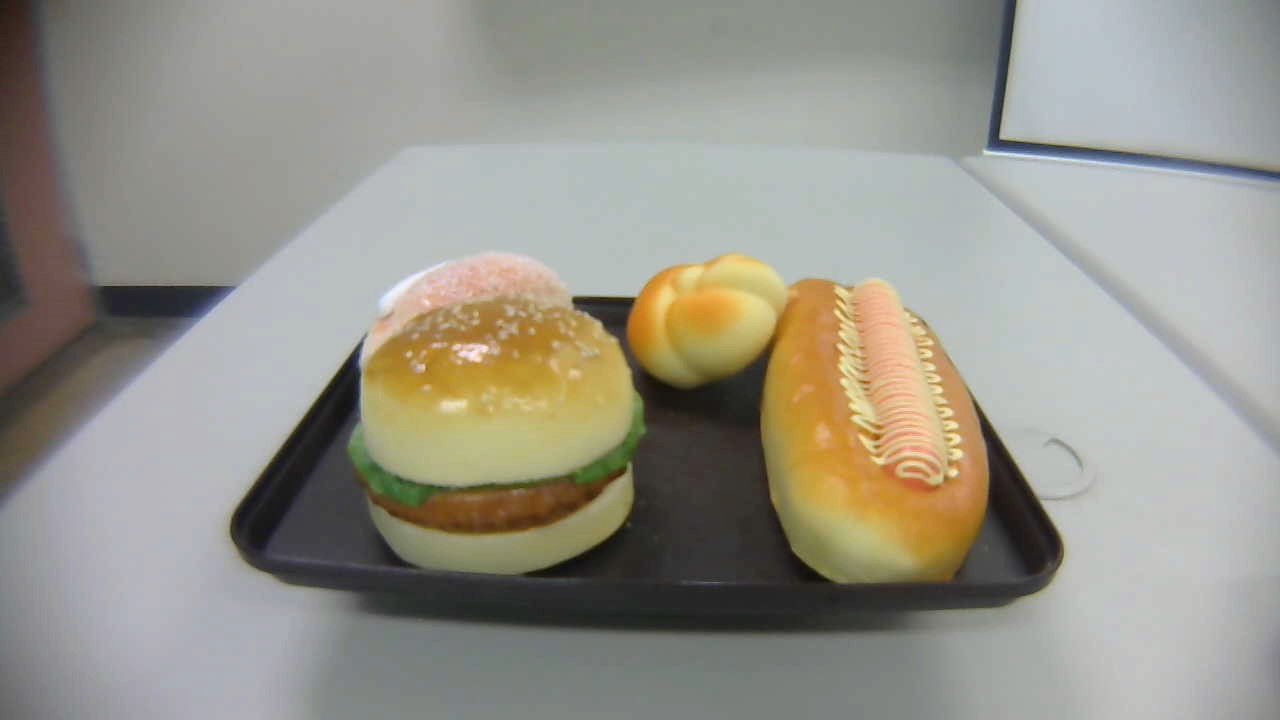coconut: (357, 251, 575, 372)
hamburger: (351, 297, 644, 574)
hot dog: (759, 278, 988, 579)
twist bread: (625, 252, 792, 388)
